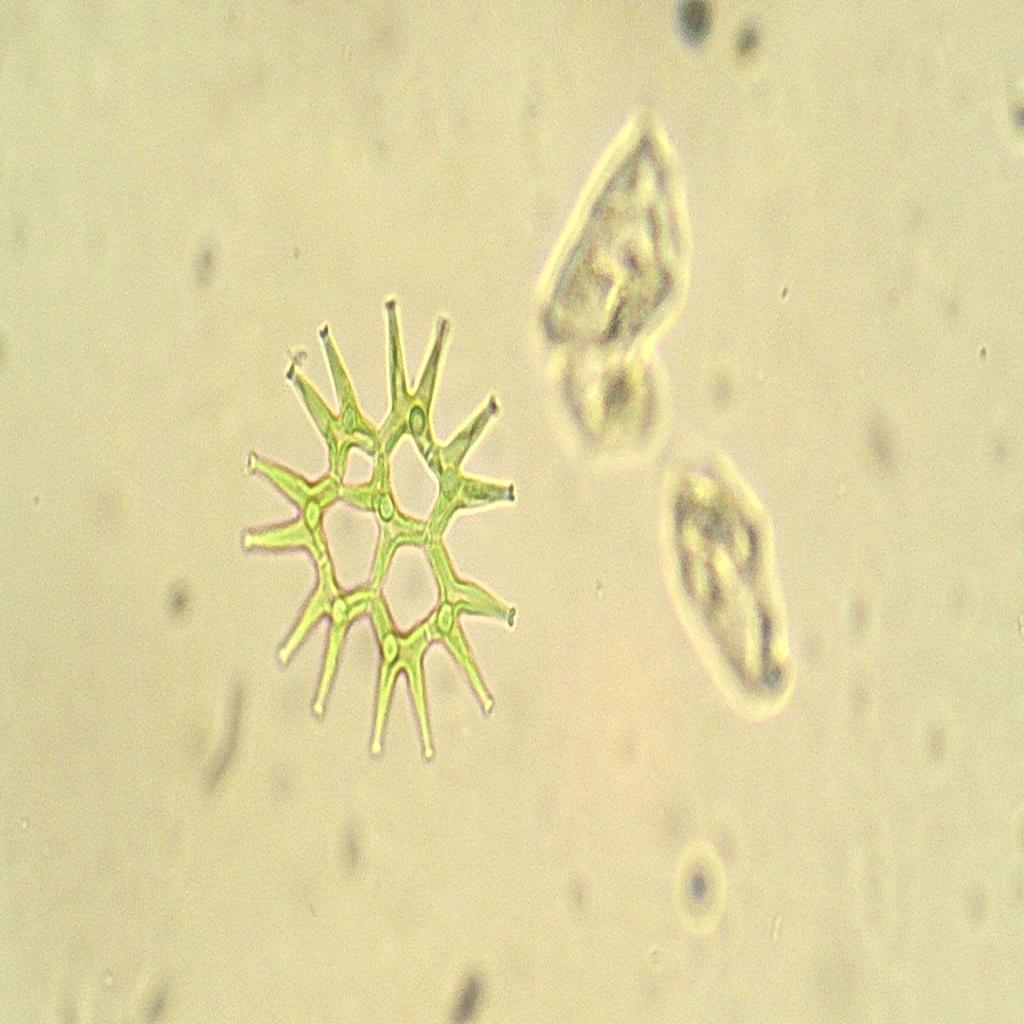Pediastrum_1T: (225, 273, 544, 779)
